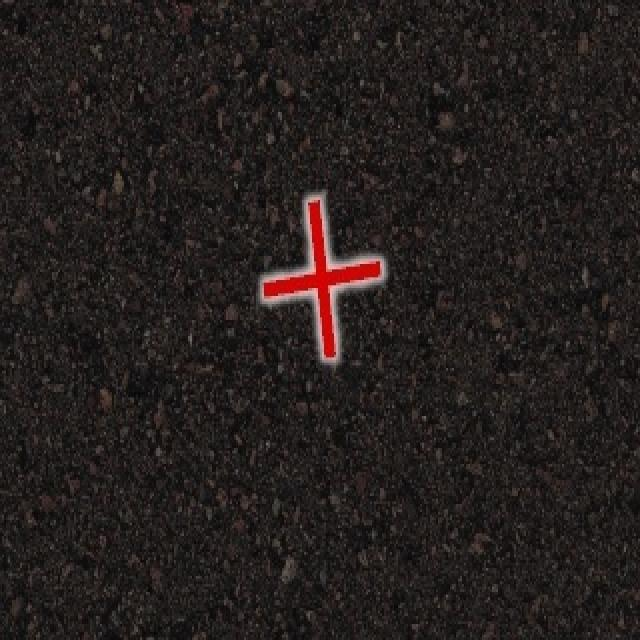x_marker: (263, 199, 381, 356)
